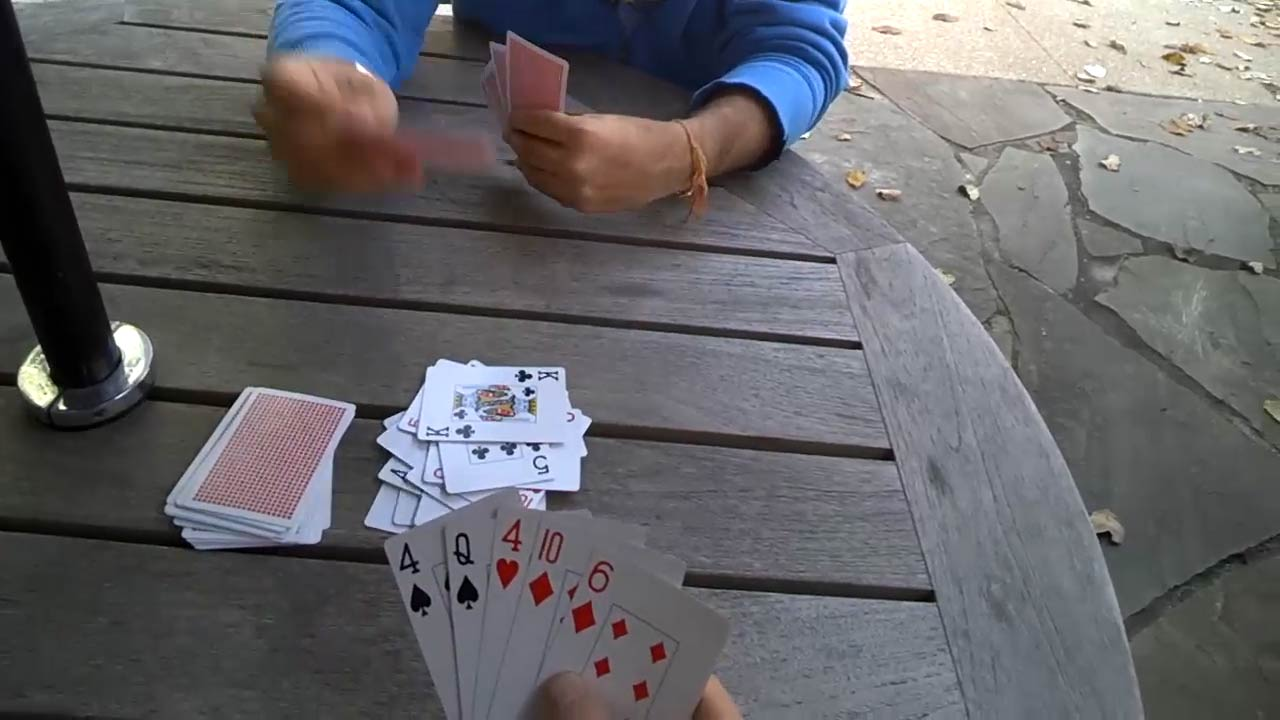hand: (256, 52, 424, 183), (513, 109, 685, 206), (545, 666, 735, 715)
